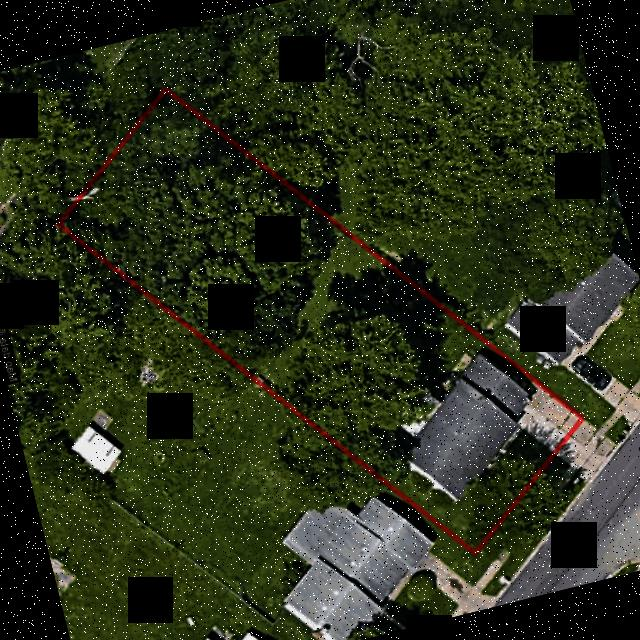Driveway: (519, 387, 576, 448)
Extra Driveway: (553, 419, 614, 486)
Extra Lawn: (477, 518, 542, 578)
House: (410, 348, 535, 498)
Sidewalk: (387, 352, 472, 434)
